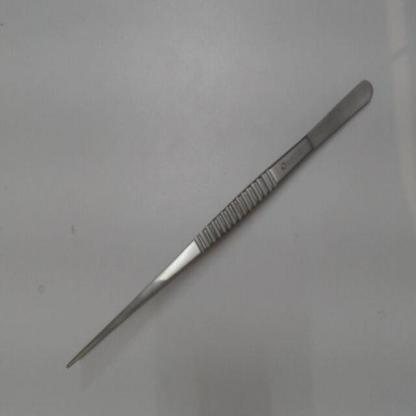DeBakey Dissector: (55, 62, 380, 392)
